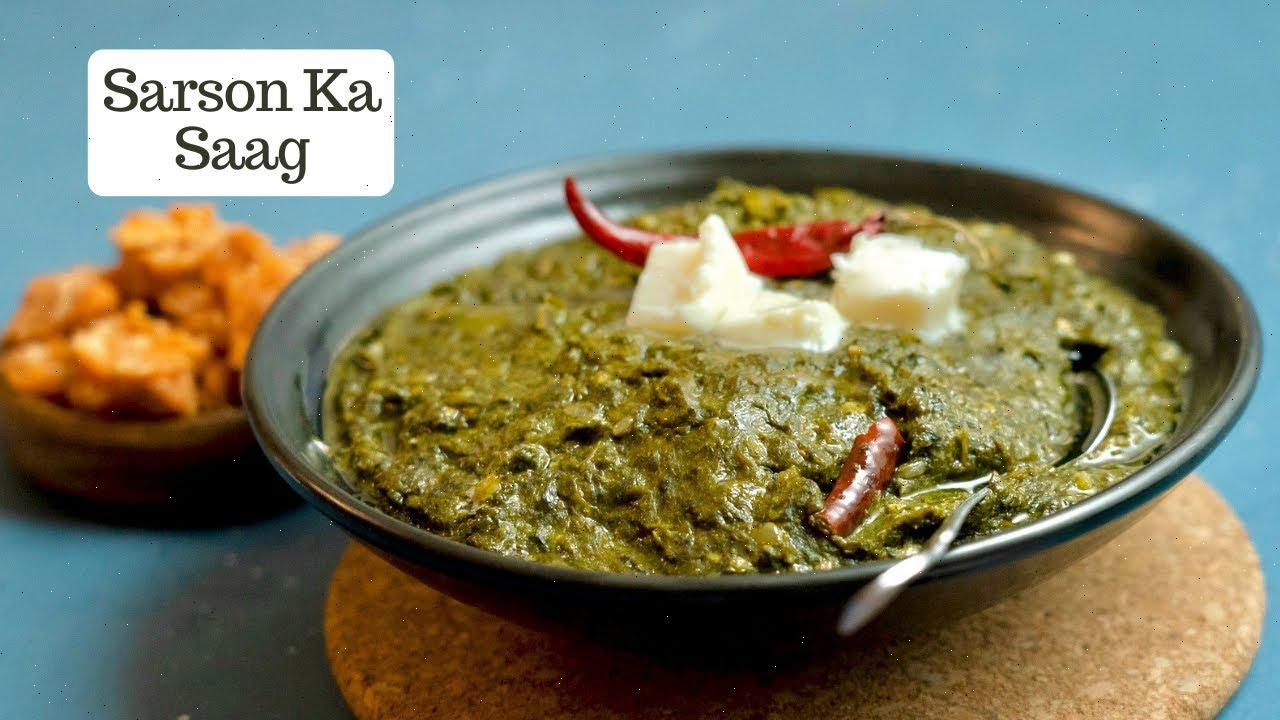saag: (314, 207, 1182, 575)
